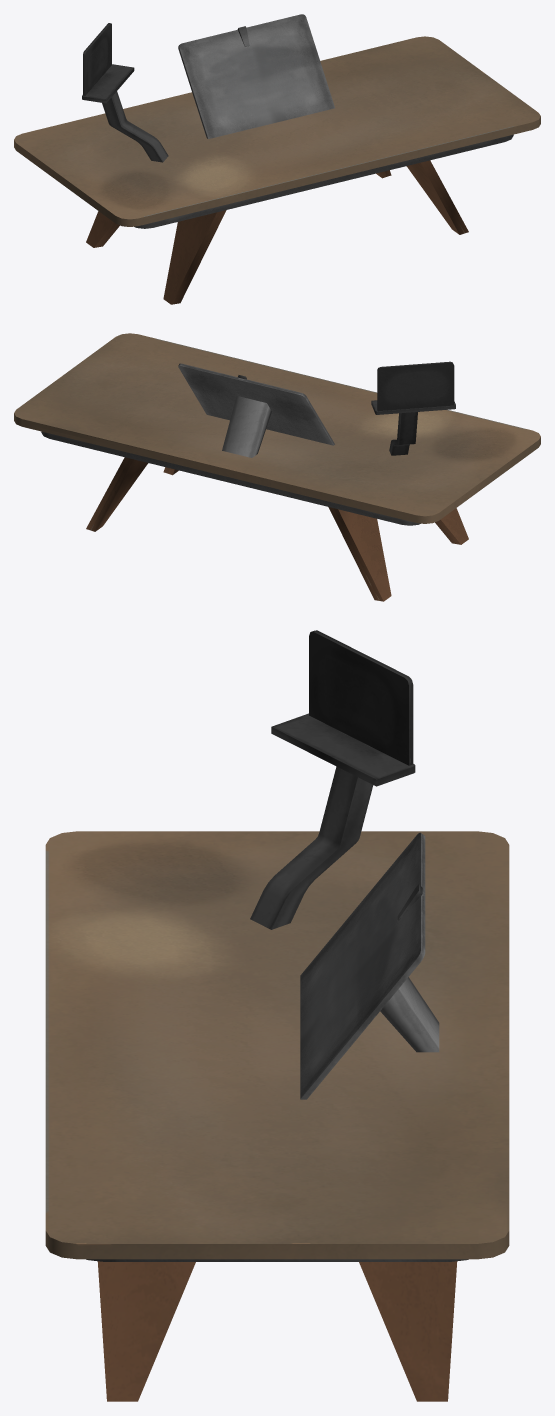
File: Desk.gltf
3 renders of one model, top to bottom at view 1: azimuth 30°, elevation 25°; view 2: azimuth 150°, elevation 25°; view 3: azimuth 270°, elevation 25°, orthographic. The views are drawn at different scales.
Parts seen in each view (by area): view 1: ScribeDesk; view 2: ScribeDesk; view 3: ScribeDesk.
Boxes of the visible parts, <box> form: ScribeDesk: <box>14,14,540,304</box>; ScribeDesk: <box>14,333,540,601</box>; ScribeDesk: <box>45,630,509,1401</box>.
Size of the model in its own units: 2.99 by 1.51 by 1.42.
Materials: 1 (1 with a texture image).
